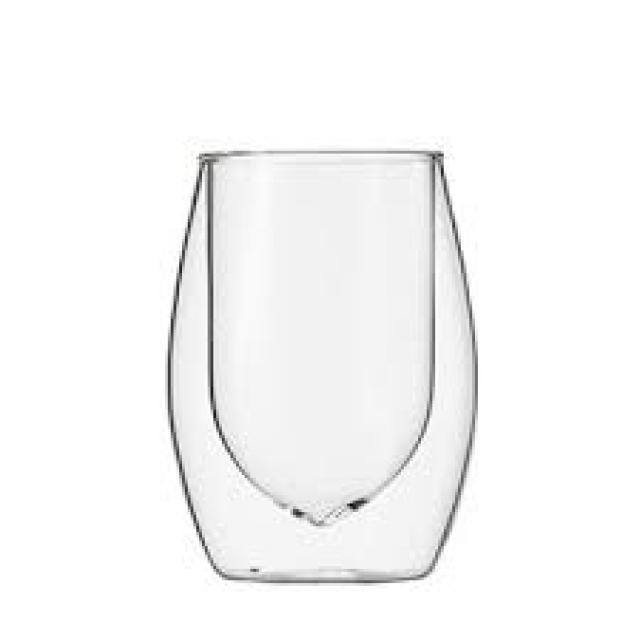Glass: (166, 146, 482, 584)
